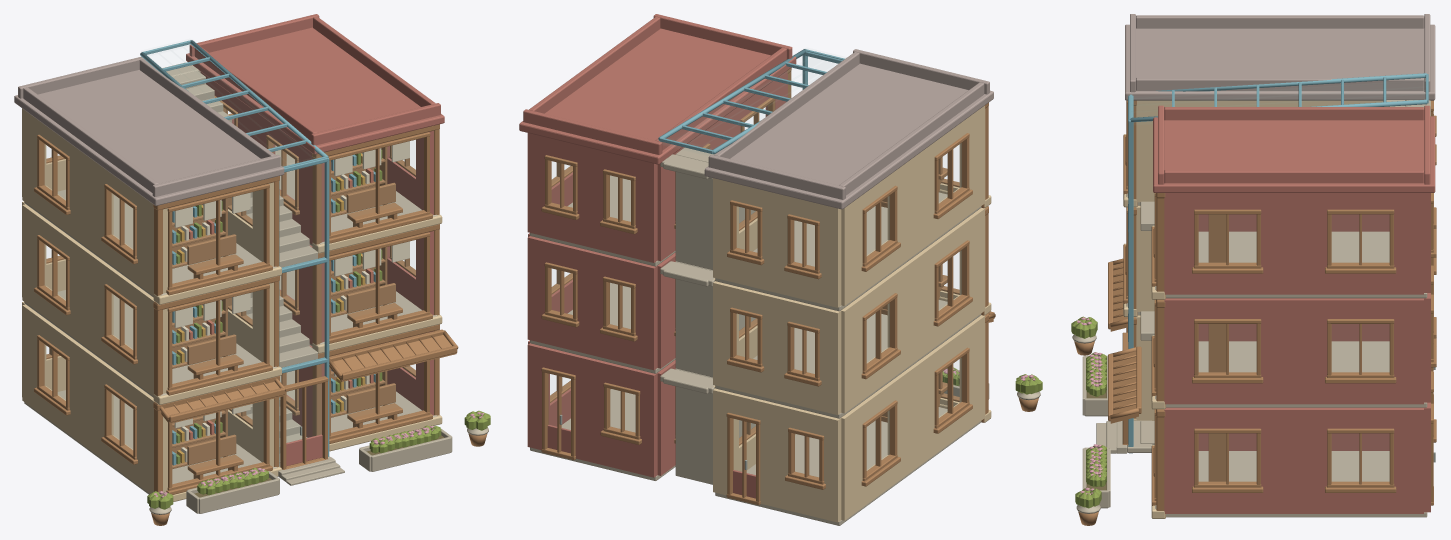
The picture shows the model from 3 angles, left to right: view 1: azimuth 30°, elevation 25°; view 2: azimuth 150°, elevation 25°; view 3: azimuth 270°, elevation 25°; orthographic projection. The views are drawn at different scales.
Parts seen in each view (by area): view 1: SM_18_01_建筑墙体, SM_18_02_曲面屋顶, SM_18_04_门窗楼梯, SM_18_06_景观设施, SM_18_03_木构回廊, SM_18_05_景观植物; view 2: SM_18_01_建筑墙体, SM_18_02_曲面屋顶, SM_18_04_门窗楼梯, SM_18_03_木构回廊, SM_18_05_景观植物, SM_18_06_景观设施; view 3: SM_18_01_建筑墙体, SM_18_02_曲面屋顶, SM_18_04_门窗楼梯, SM_18_05_景观植物, SM_18_03_木构回廊, SM_18_06_景观设施.
Part boxes in pixels (<box>): SM_18_01_建筑墙体: <box>22,72,442,501</box>; SM_18_02_曲面屋顶: <box>14,14,458,423</box>; SM_18_04_门窗楼梯: <box>34,40,432,494</box>; SM_18_06_景观设施: <box>172,141,409,479</box>; SM_18_03_木构回廊: <box>153,124,439,492</box>; SM_18_05_景观植物: <box>147,410,490,525</box>; SM_18_01_建筑墙体: <box>527,71,991,525</box>; SM_18_02_曲面屋顶: <box>519,14,995,322</box>; SM_18_04_门窗楼梯: <box>541,49,972,505</box>; SM_18_03_木构回廊: <box>787,68,988,422</box>; SM_18_05_景观植物: <box>942,367,1042,411</box>; SM_18_06_景观设施: <box>881,157,947,422</box>; SM_18_01_建筑墙体: <box>1123,100,1430,518</box>; SM_18_02_曲面屋顶: <box>1108,14,1435,423</box>; SM_18_04_门窗楼梯: <box>1096,73,1436,505</box>; SM_18_05_景观植物: <box>1071,316,1110,525</box>; SM_18_03_木构回廊: <box>1128,100,1165,518</box>; SM_18_06_景观设施: <box>1125,136,1226,481</box>.
Bounding box in the file's own units: 10.72 × 9.69 × 9.06.
